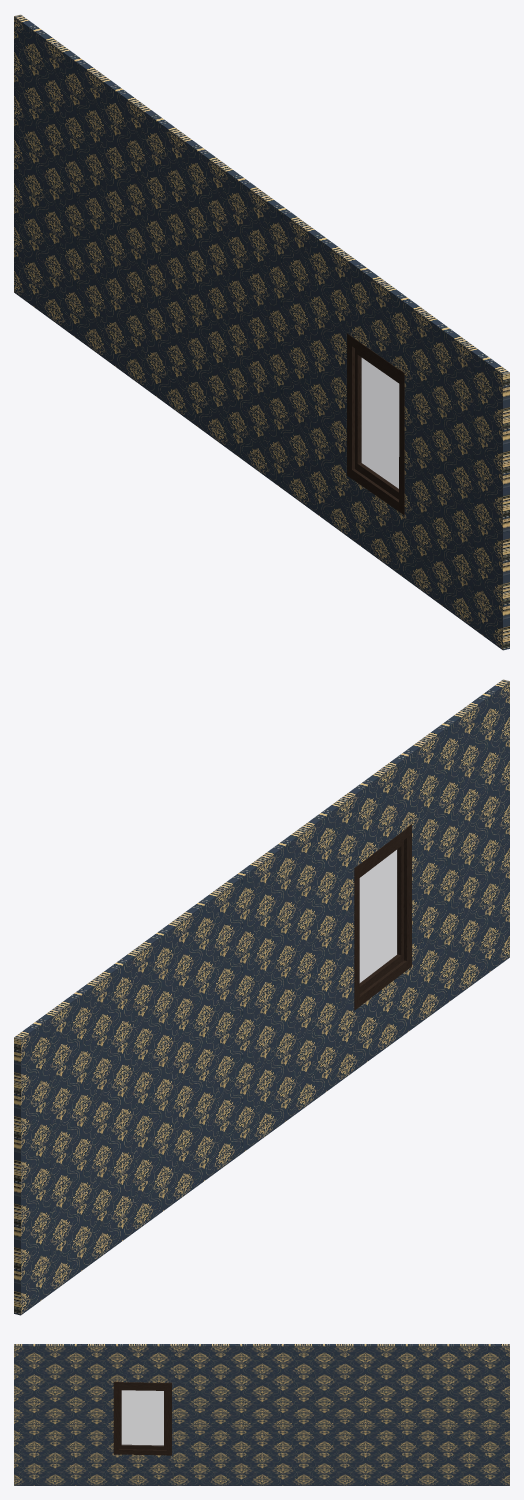
Rendered from Window for living room.fbx.
The picture shows the model from 3 angles, top to bottom: view 1: azimuth 30°, elevation 25°; view 2: azimuth 150°, elevation 25°; view 3: azimuth 270°, elevation 25°; orthographic projection. The views are drawn at different scales.
Visible parts, largest first — view 1: pasted__pasted__pCube108, pCube951, polySurface469, polySurface471; view 2: pasted__pasted__pCube108, pCube951, polySurface469, polySurface471; view 3: pasted__pasted__pCube108, pCube951, polySurface469, polySurface471.
Part boxes in pixels (<box>): pasted__pasted__pCube108: <box>14,14,509,650</box>; pCube951: <box>361,358,398,488</box>; polySurface469: <box>347,333,404,515</box>; polySurface471: <box>355,348,399,499</box>; pasted__pasted__pCube108: <box>14,679,509,1315</box>; pCube951: <box>360,849,397,982</box>; polySurface469: <box>354,824,411,1010</box>; polySurface471: <box>359,840,403,993</box>; pasted__pasted__pCube108: <box>14,1344,509,1485</box>; pCube951: <box>122,1390,163,1445</box>; polySurface469: <box>113,1381,171,1455</box>; polySurface471: <box>119,1387,166,1449</box>.
Size of the model in its own units: 18.55 by 500 by 1603.
